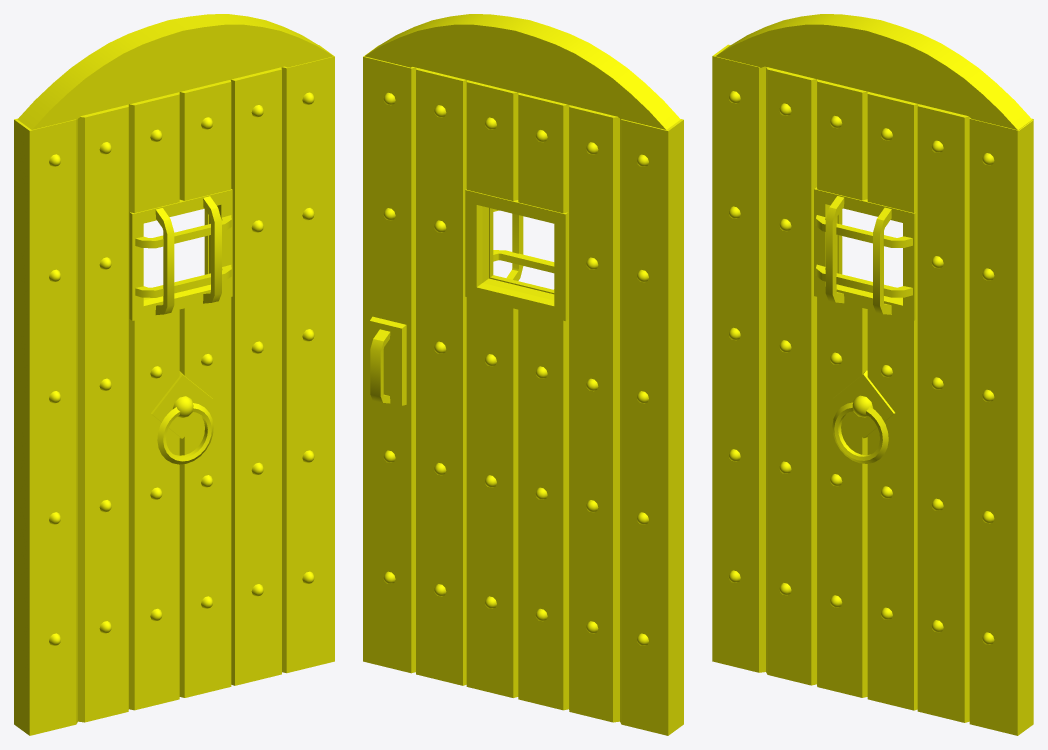
The model's file is door-2-round.glb.
3 views of the same model, side by side, from view 1: azimuth 30°, elevation 25°; view 2: azimuth 150°, elevation 25°; view 3: azimuth 330°, elevation 25° (orthographic).
Parts seen in each view (by area): view 1: Door_2_Round; view 2: Door_2_Round; view 3: Door_2_Round.
Boxes of the visible parts, x1,y1,x2,y2 form: Door_2_Round: (14, 14, 334, 735); Door_2_Round: (363, 14, 683, 735); Door_2_Round: (712, 14, 1033, 735).
Bounding box in the file's own units: 1.12 × 2.33 × 0.2609.
Materials: 2 (2 with a texture image).
